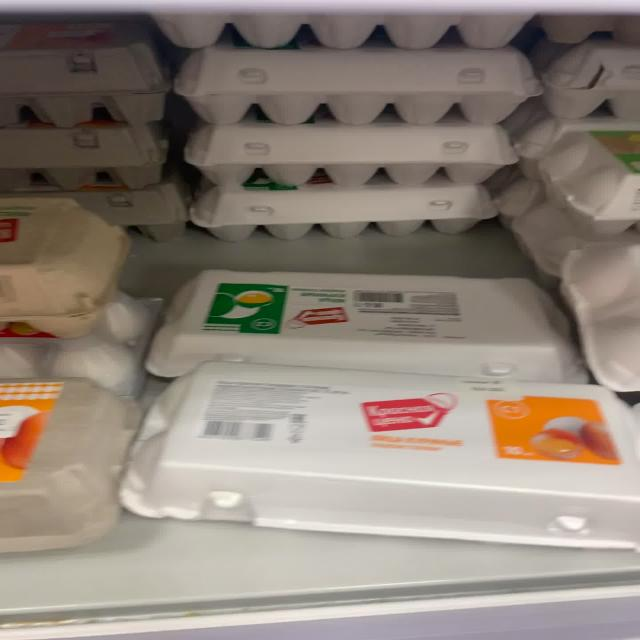egg box: (121, 372, 638, 545), (145, 267, 596, 385)
